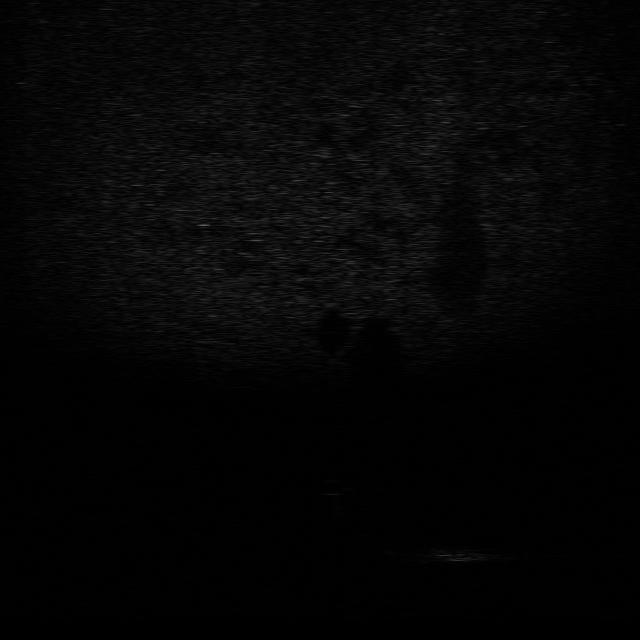ball: (312, 476, 352, 499)
metal bucket: (418, 541, 492, 565)
tyre: (355, 515, 411, 560)
